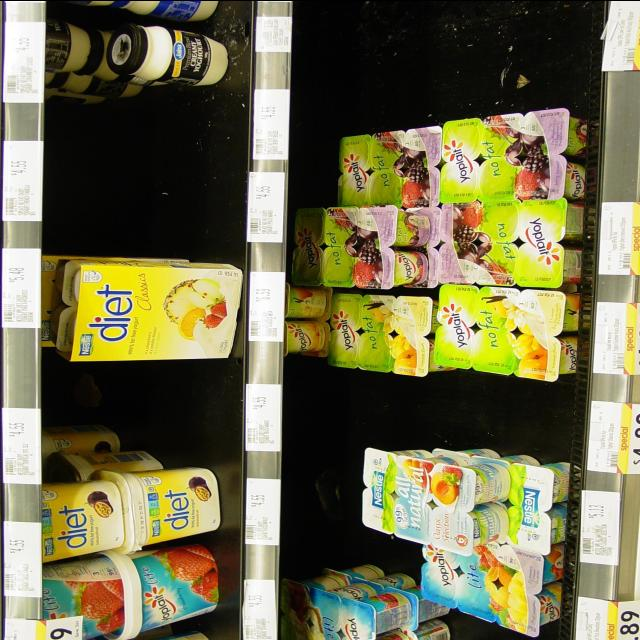empty_space: (342, 0, 588, 105), (66, 95, 230, 247), (331, 376, 557, 451), (72, 365, 204, 426)
